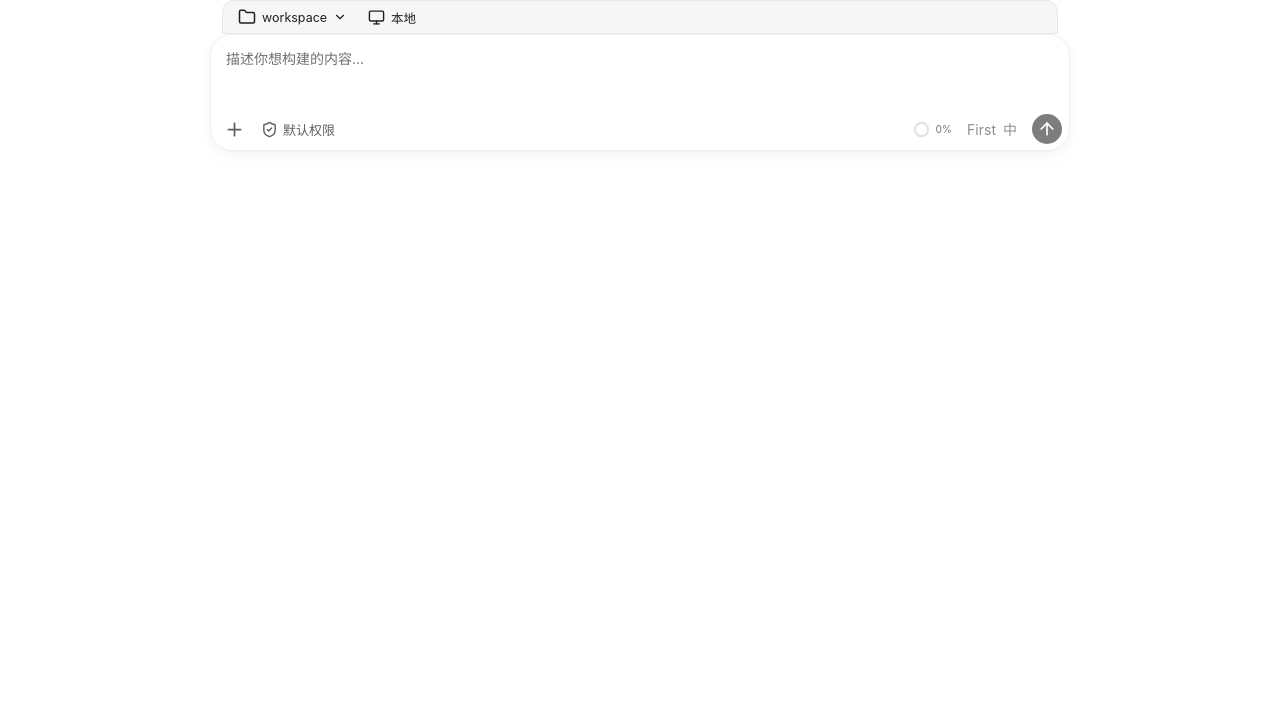
Test: 渐进式模型选择器 › 空目录加载时保留反馈，并在目录到达后展示选项
The width and height of the screenshot is (1280, 720).
Click the button with aria-label "模型与思考强度" at (992, 129), box [957,114,1027,144]
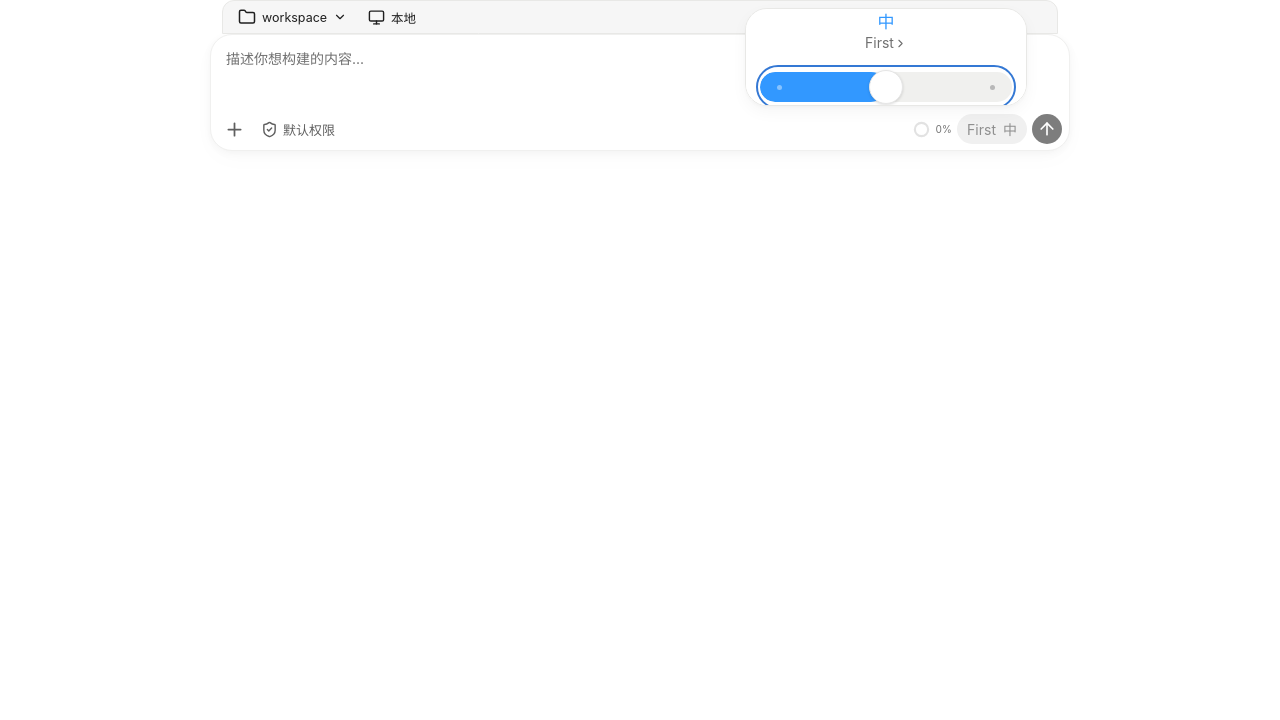
Click the button with aria-label "选择模型" at (886, 32), box [818,6,954,57]
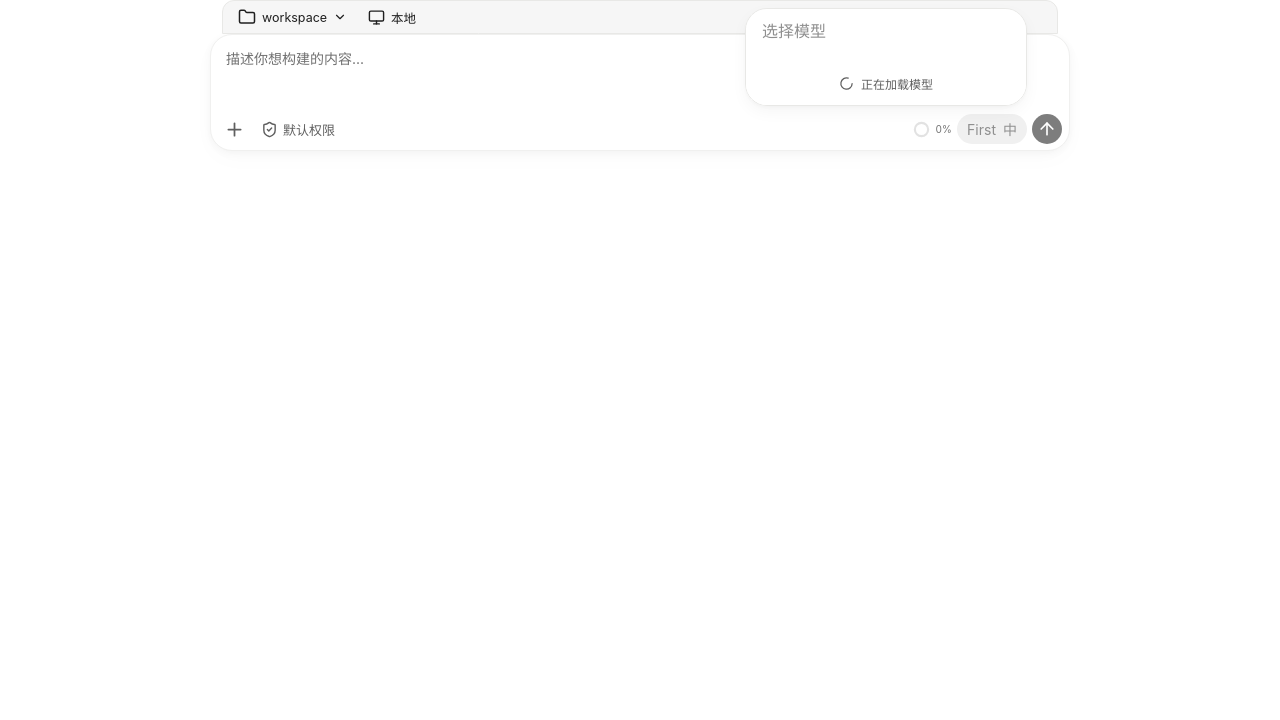
Check: the text "正在加载模型" is shown, box [839,76,933,92]
